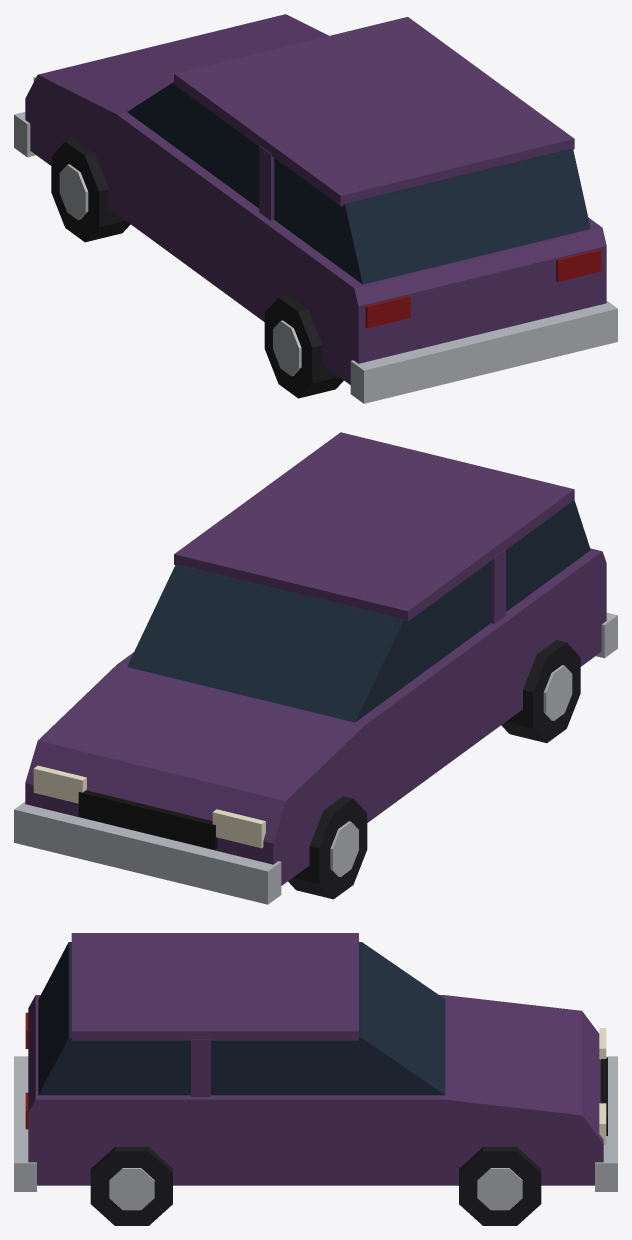
The model's file is CarHatchPlum.obj.
3 views of the same model, one above another, from view 1: azimuth 30°, elevation 25°; view 2: azimuth 150°, elevation 25°; view 3: azimuth 270°, elevation 25° (orthographic). The views are drawn at different scales.
Visible parts, largest first — view 1: CarHatchPlum; view 2: CarHatchPlum; view 3: CarHatchPlum.
Boxes of the visible parts, <box> form: CarHatchPlum: <box>14,14,617,403</box>; CarHatchPlum: <box>14,432,617,904</box>; CarHatchPlum: <box>14,933,617,1225</box>.
Bounding box in the file's own units: 1.89 × 1.44 × 4.2.
Materials: 1 (1 with a texture image).
